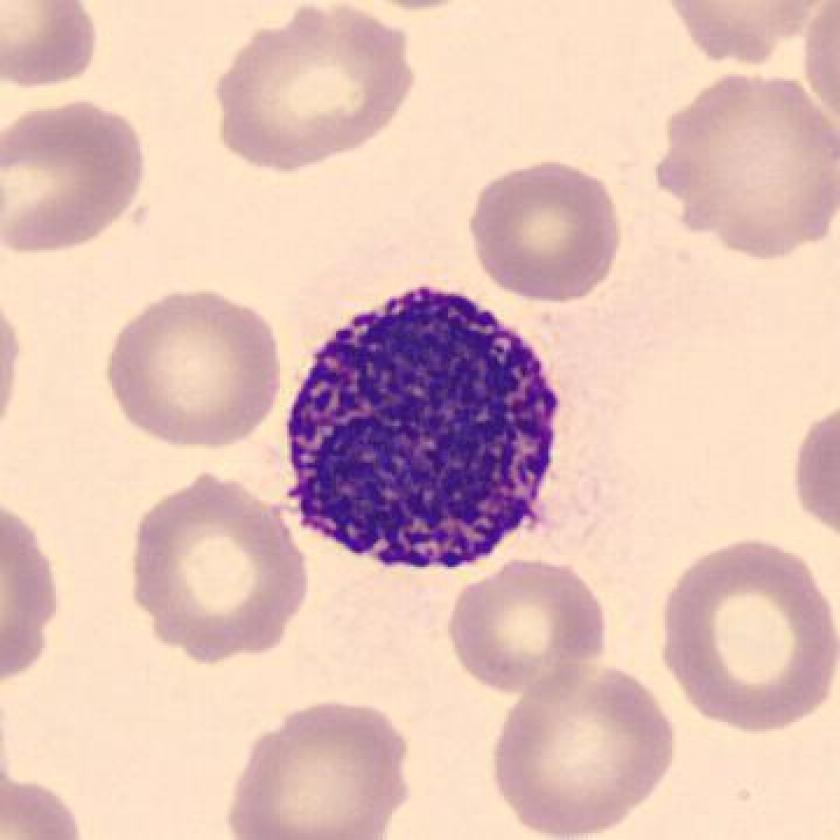basophil: (279, 279, 573, 577)
